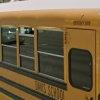Bus: (2, 1, 100, 100)
